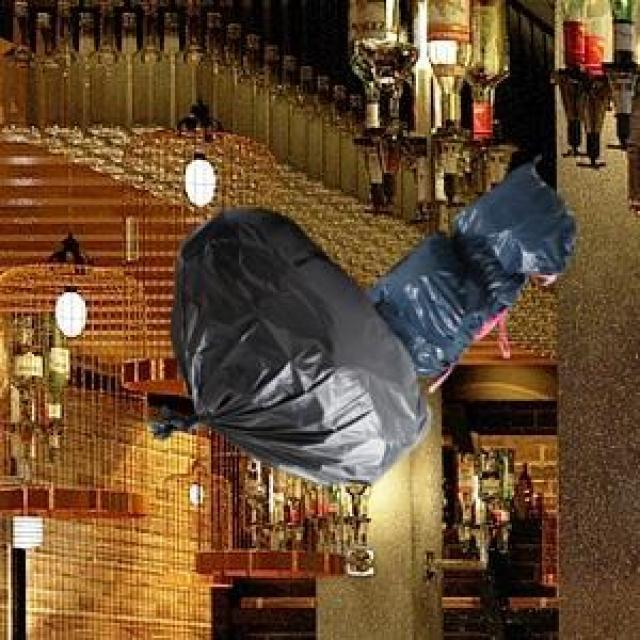Vinyl: (172, 161, 575, 482)
